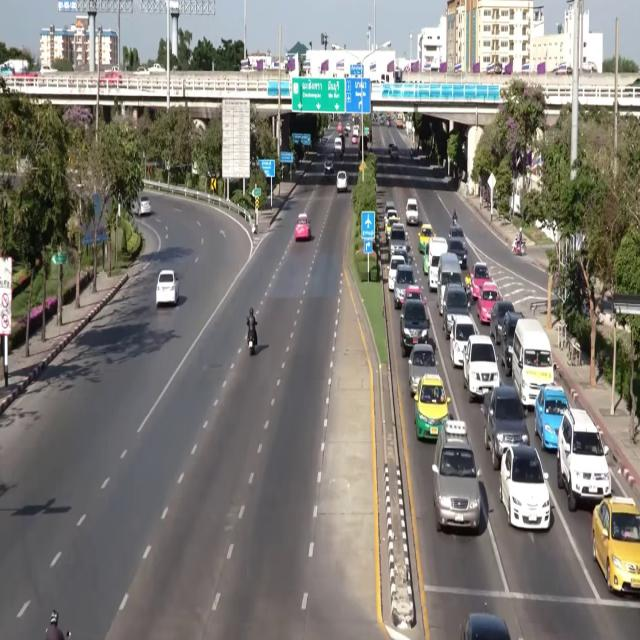car: (557, 408, 611, 511), (432, 420, 481, 533), (592, 497, 639, 594), (499, 445, 550, 529), (483, 385, 529, 470), (463, 335, 499, 401), (415, 374, 450, 440), (534, 385, 569, 450), (400, 301, 429, 357), (408, 344, 437, 396), (500, 312, 523, 376), (442, 283, 468, 339), (450, 315, 476, 367), (490, 300, 514, 345), (477, 281, 501, 323), (394, 264, 415, 309), (155, 269, 179, 307), (470, 262, 491, 299), (388, 255, 406, 291), (389, 223, 407, 255), (448, 239, 466, 269), (403, 285, 426, 304), (419, 224, 433, 254), (385, 209, 399, 238), (295, 214, 310, 240), (406, 198, 418, 225), (100, 72, 123, 86), (137, 196, 151, 215), (394, 250, 412, 264), (448, 225, 464, 239), (337, 170, 347, 192), (334, 136, 344, 157), (39, 64, 57, 74), (384, 200, 395, 216), (148, 64, 165, 73), (389, 144, 398, 160), (134, 66, 149, 75), (324, 160, 333, 175), (353, 125, 359, 136), (345, 122, 351, 133), (351, 135, 358, 144), (337, 122, 342, 133), (387, 118, 391, 127)
scooty: (512, 238, 526, 255), (248, 332, 256, 355)
truck: (0, 59, 28, 74), (396, 113, 404, 128)
